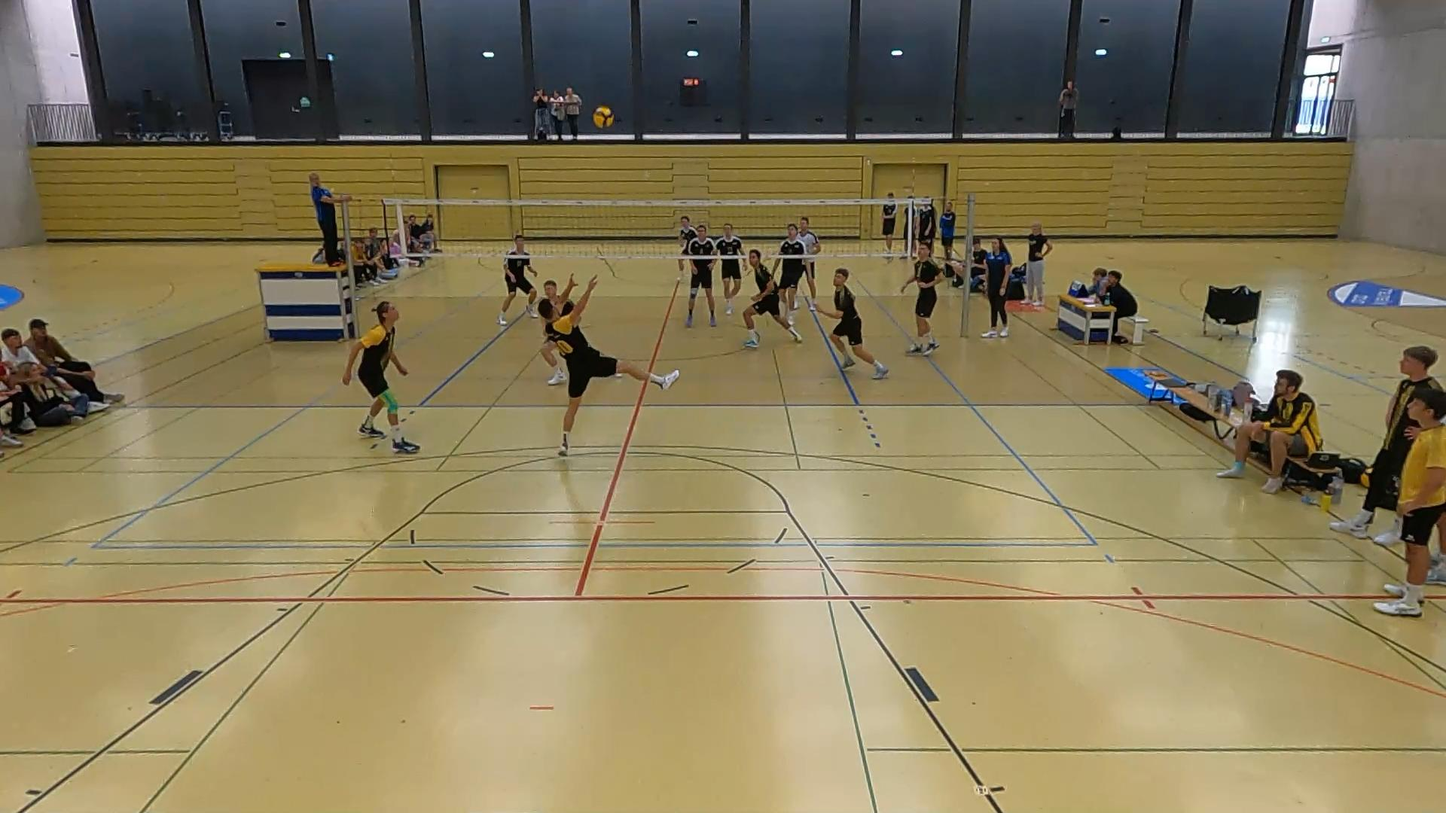difesa: (535, 276, 684, 460)
